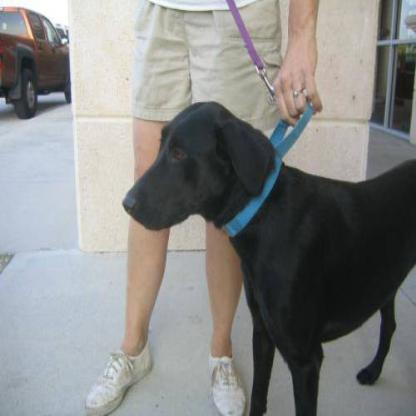dog: (136, 99, 395, 370)
